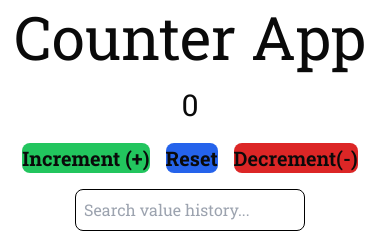
Counter Component › should decrement the counter value
Click the button "Decrement(-)": [296, 158] box [234,143,358,173]
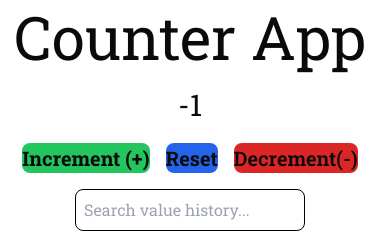
Now the heading "-1" is shown, box [178,85,202,124]
